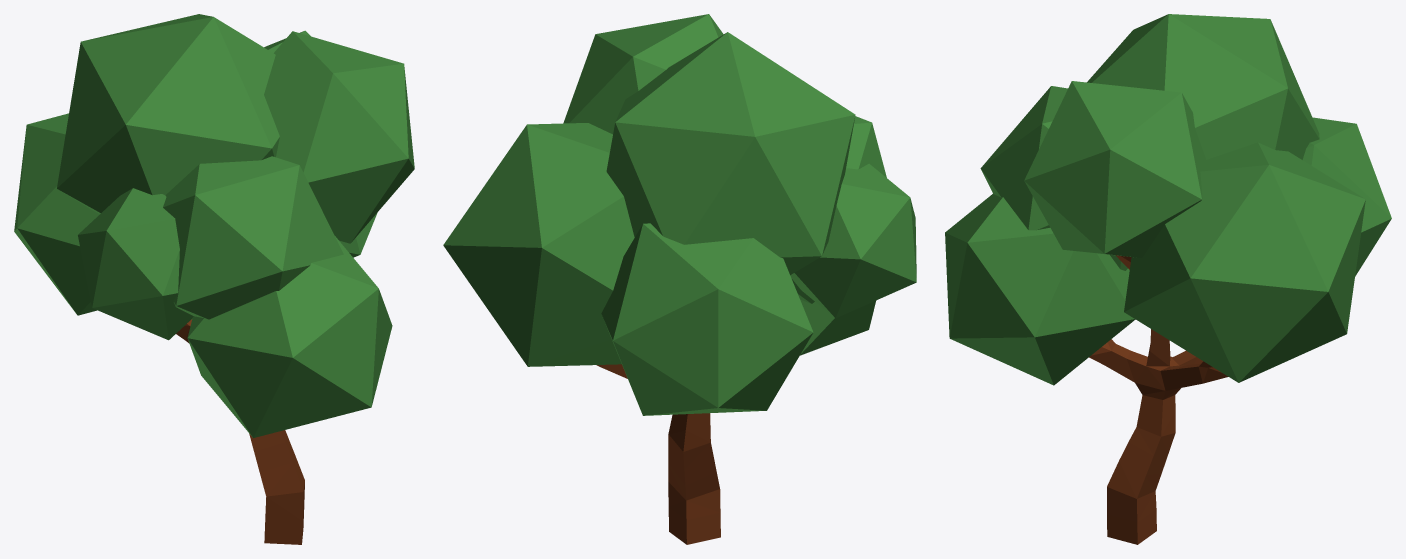
The model's file is treeV2.dae.
3 views of the same model, side by side, from view 1: azimuth 30°, elevation 25°; view 2: azimuth 150°, elevation 25°; view 3: azimuth 270°, elevation 25° (orthographic). The views are drawn at different scales.
Parts seen in each view (by area): view 1: Leaves, Trunk; view 2: Leaves, Trunk; view 3: Leaves, Trunk.
Part boxes in pixels (left/top/right/bottom): Leaves: left=14, top=14, right=414, bottom=437; Trunk: left=176, top=319, right=304, bottom=544; Leaves: left=443, top=14, right=916, bottom=415; Trunk: left=596, top=364, right=720, bottom=544; Leaves: left=945, top=14, right=1391, bottom=385; Trunk: left=1089, top=255, right=1228, bottom=544.
Size of the model in its own units: 11.8 by 13.21 by 16.19.
